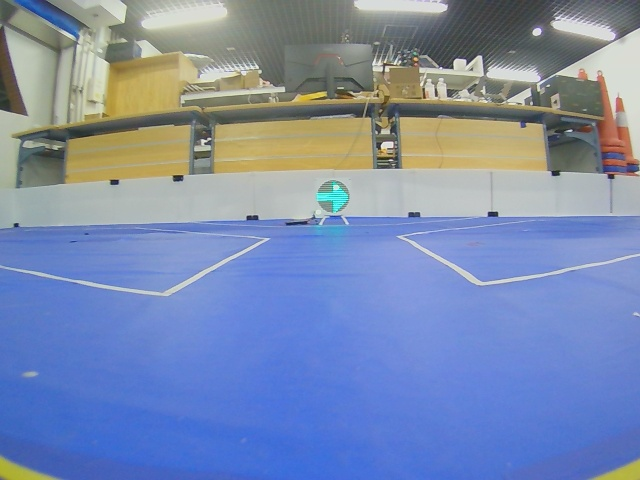right_green: (316, 180, 349, 214)
